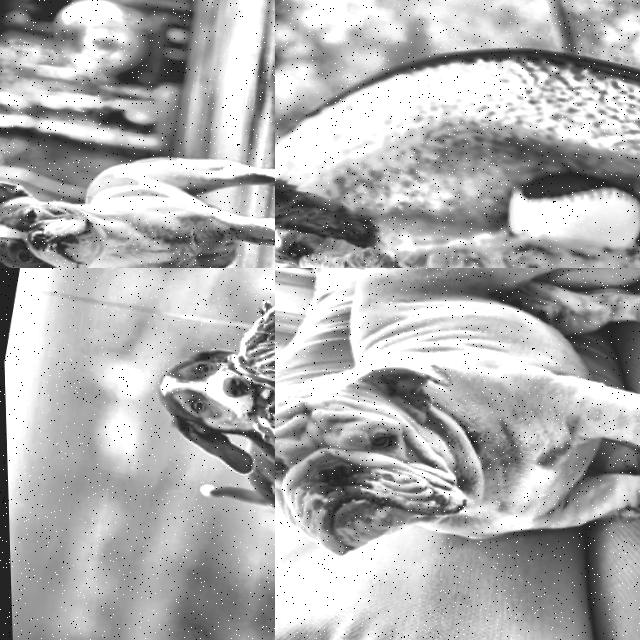beagle: (116, 321, 275, 495)
bulldog: (275, 303, 511, 593), (0, 151, 136, 268)
poodle: (275, 127, 493, 268)
